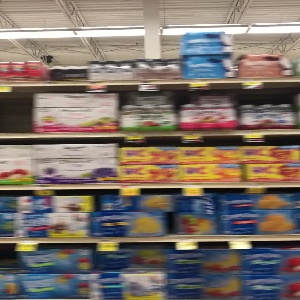void: (1, 87, 31, 134)
